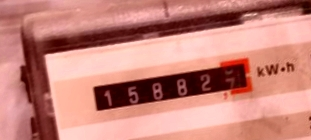1: (98, 85, 113, 106)
2: (196, 70, 211, 90)
5: (123, 82, 138, 103)
7: (222, 74, 235, 89)
8: (148, 78, 163, 100), (173, 74, 187, 97)
screen: (81, 50, 261, 119)
